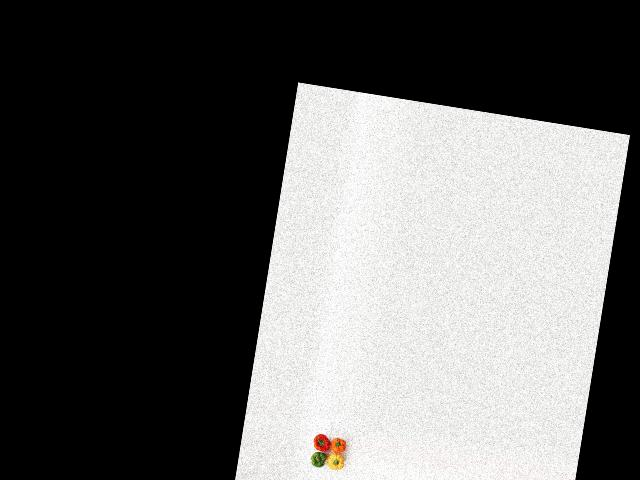bell_pepper: (308, 446, 329, 473)
